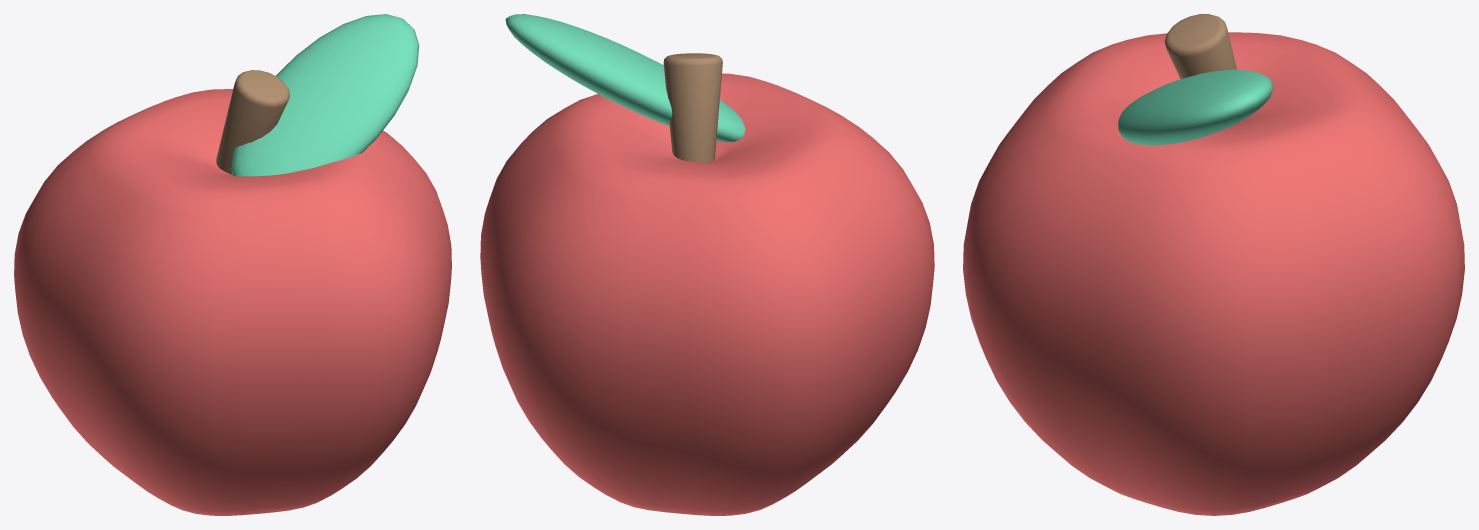
The model's file is SM_Apple.fbx.
3 renders of one model, left to right at view 1: azimuth 30°, elevation 25°; view 2: azimuth 150°, elevation 25°; view 3: azimuth 270°, elevation 25°, orthographic. The views are drawn at different scales.
Visible parts, largest first — view 1: SM_Apple; view 2: SM_Apple; view 3: SM_Apple.
Part boxes in pixels (x1=…): SM_Apple: x1=14, y1=14, x2=451, y2=515; SM_Apple: x1=480, y1=14, x2=934, y2=515; SM_Apple: x1=963, y1=14, x2=1464, y2=515.
Bounding box in the file's own units: 15.53 × 16.17 × 15.72.
